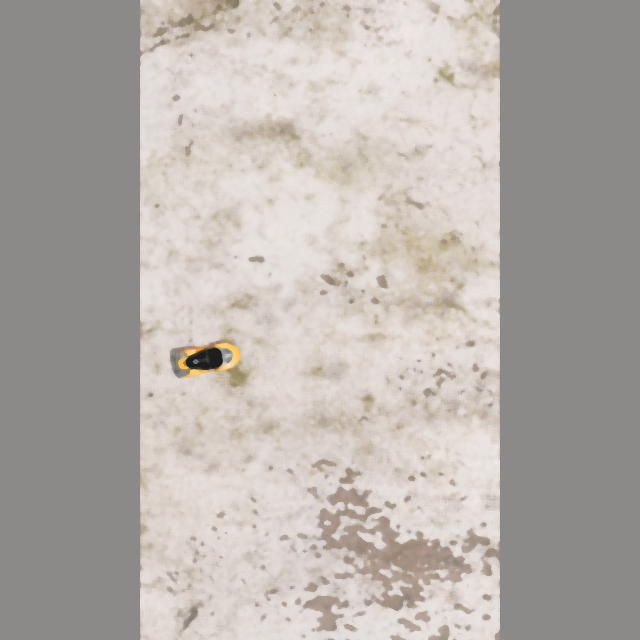car: (168, 338, 242, 381)
